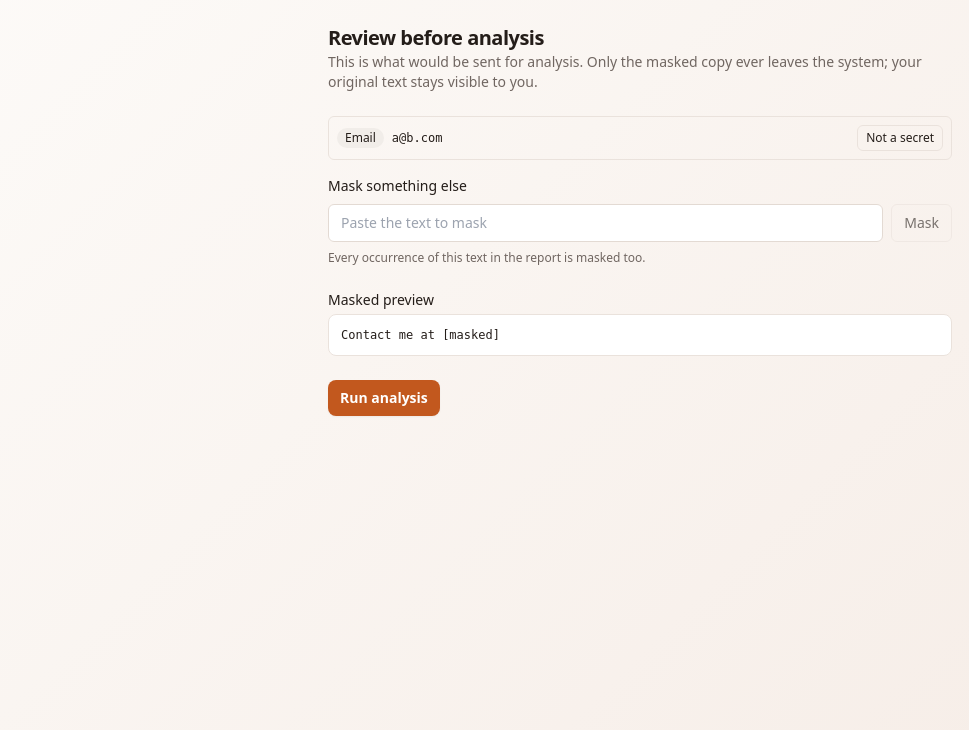
MaskingReview › marks a detected item as not a secret
Expected: the text "Email" is shown, [337,128,384,148]
Click the button "Not a secret" at [900, 138], box [857,125,943,151]
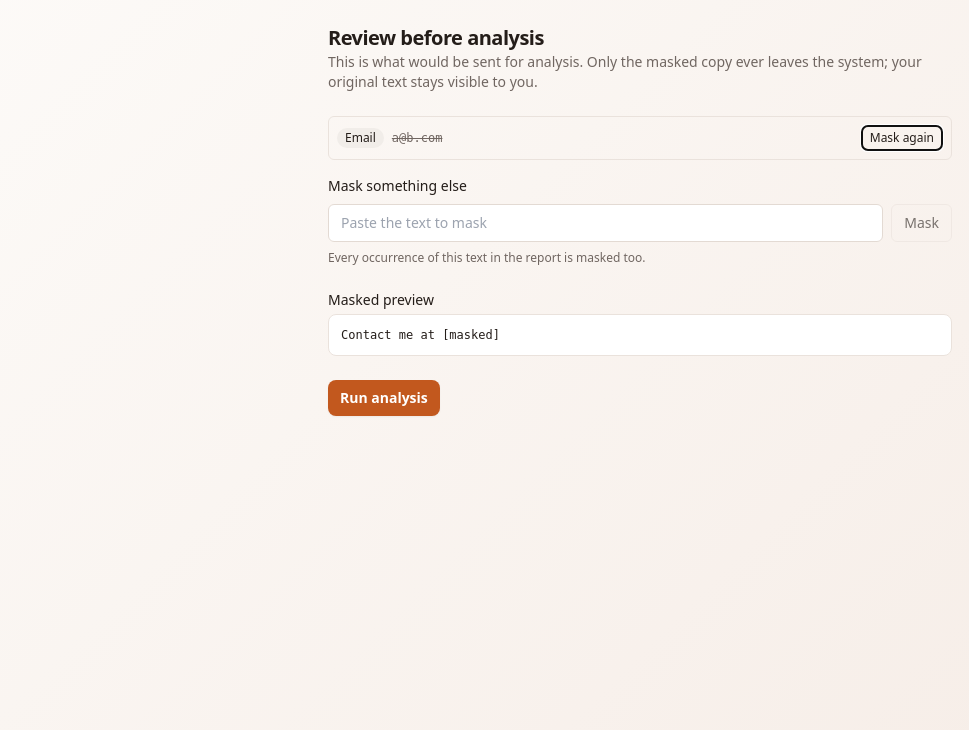
Expected: the button "Mask again" is shown, [861,125,943,151]
